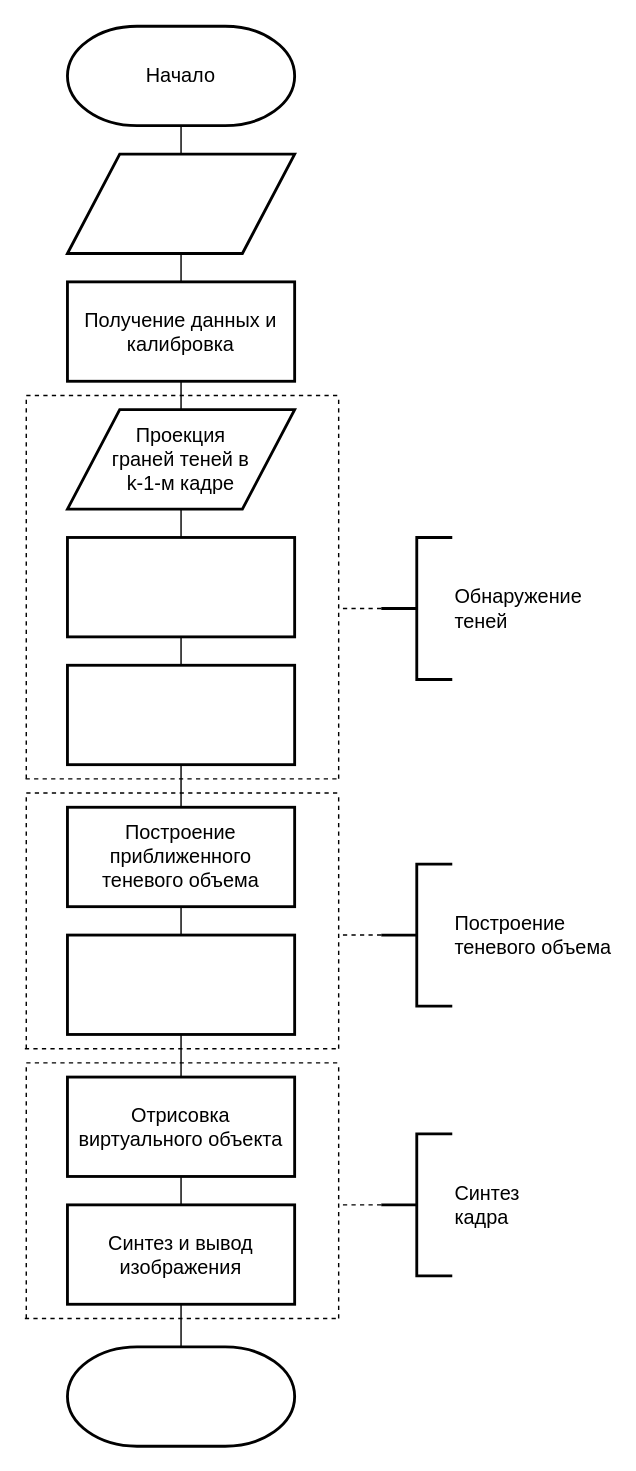
The diagram is 636 pixels wide and 1471 high, and some of its shapes have lost their labels. The shapes that lost their labels are listed below. From the top down, each one's centre as x and y in pixels, then its label:
At [180,203]: "k-й кадр".
At [180,586]: "Обнаружение новых граней теней".
At [180,714]: "Присоединение новых граней теней к старым граням".
At [180,984]: "Улучшение теневого объема".
At [180,1396]: "Конец".
